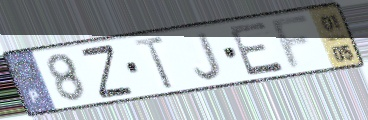8: (46, 51, 89, 104)
E: (225, 20, 287, 79)
F: (268, 11, 316, 73)
J: (192, 30, 224, 82)
T: (131, 34, 177, 92)
Z: (77, 42, 136, 101)
